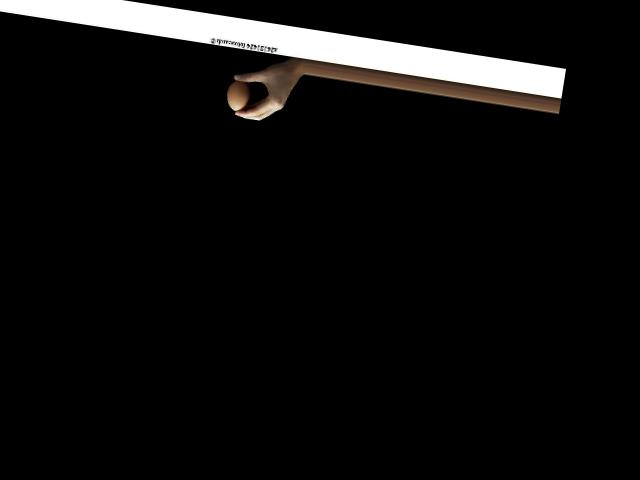egg: (224, 79, 251, 113)
